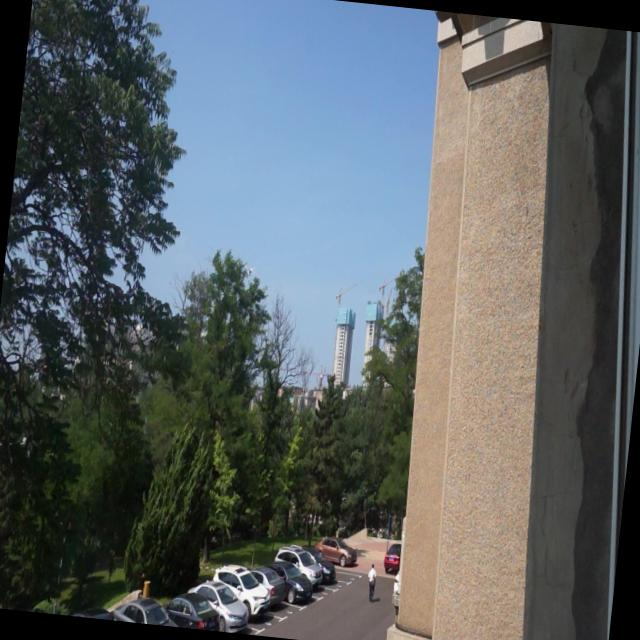drone: (246, 260, 256, 278)
